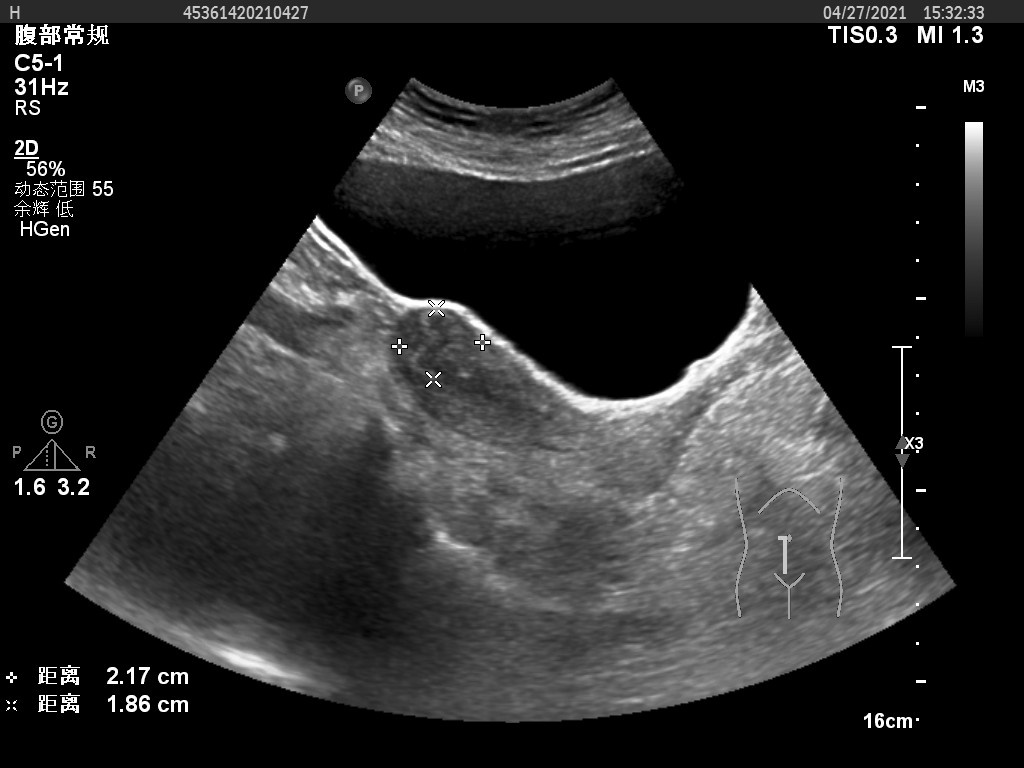肌瘤: (407, 317, 468, 374)
